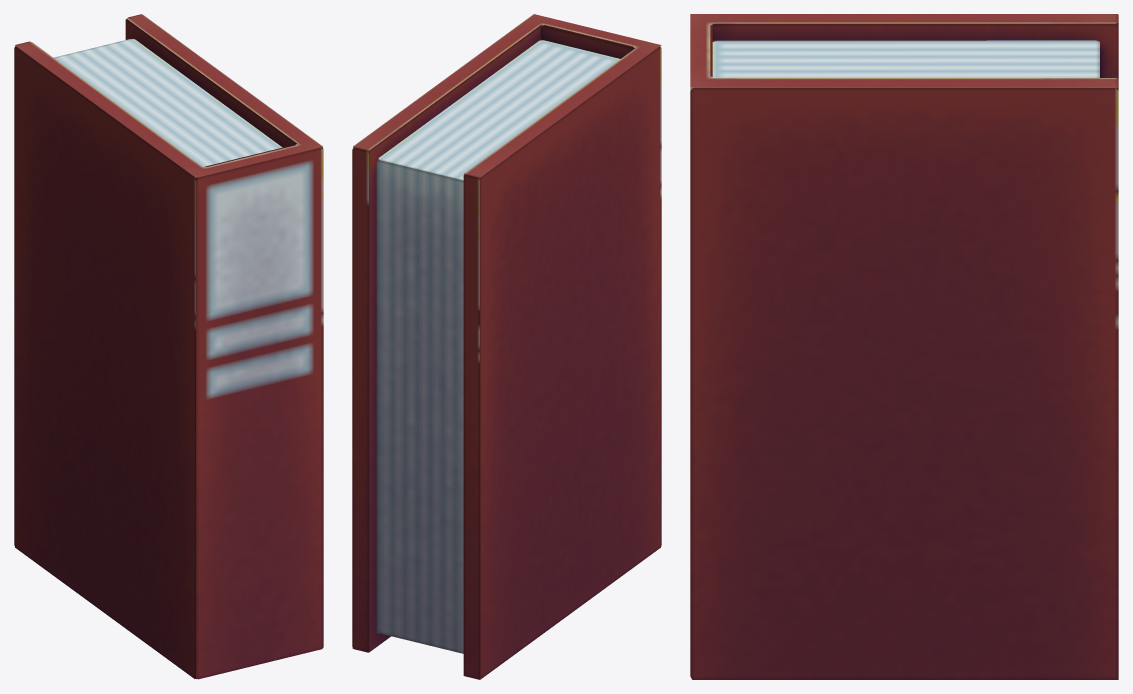
File: bigfilered.obj
3 renders of one model, left to right at view 1: azimuth 30°, elevation 25°; view 2: azimuth 150°, elevation 25°; view 3: azimuth 270°, elevation 25°, orthographic. The views are drawn at different scales.
Visible parts, largest first — view 1: BigFileRed; view 2: BigFileRed; view 3: BigFileRed.
Part boxes in pixels (x1,y1,x2,y2): BigFileRed: (14,14,323,679); BigFileRed: (352,14,661,679); BigFileRed: (690,14,1118,679).
Size of the model in its own units: 0.1597 by 0.5997 by 0.3932.
Materials: 1 (1 with a texture image).
